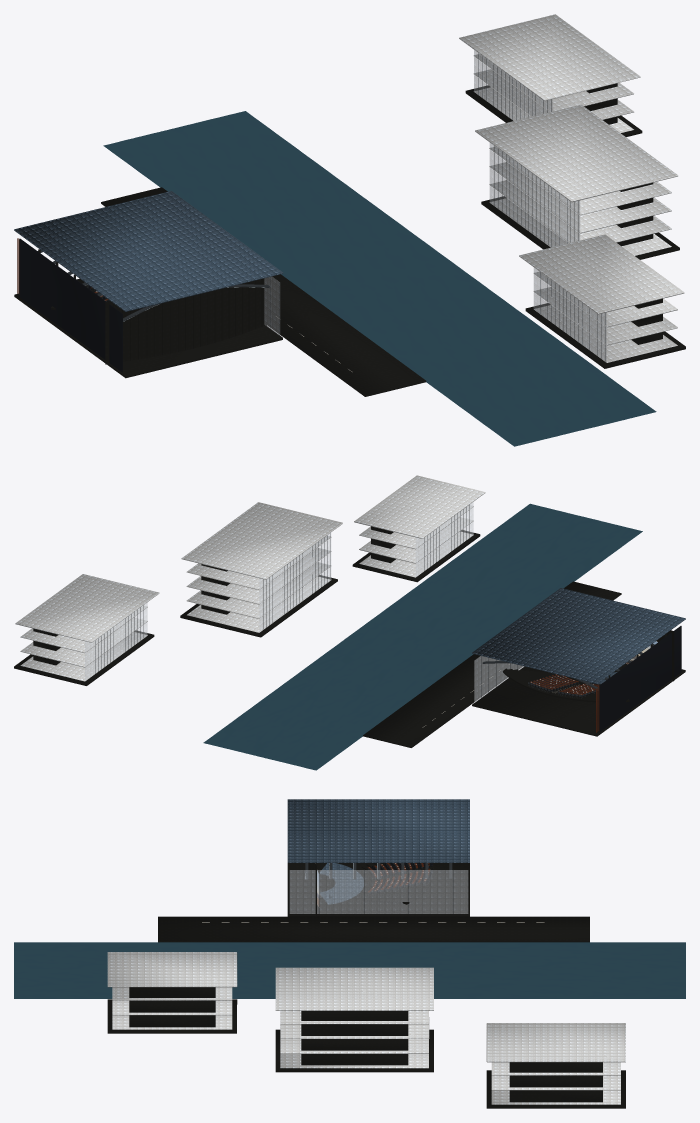
Rendered from lecture-hall.glb.
3 renders of one model, top to bottom at view 1: azimuth 30°, elevation 25°; view 2: azimuth 150°, elevation 25°; view 3: azimuth 270°, elevation 25°, orthographic. The views are drawn at different scales.
Parts seen in each view (by area): view 1: Static Architecture, Campus reflecting pool; view 2: Static Architecture, Campus reflecting pool; view 3: Static Architecture, Campus reflecting pool.
Part boxes in pixels (box(x1,y1,x2,y2)): Static Architecture: box(14, 14, 685, 396); Campus reflecting pool: box(103, 111, 656, 446); Static Architecture: box(14, 475, 685, 747); Campus reflecting pool: box(203, 503, 642, 770); Static Architecture: box(107, 799, 625, 1108); Campus reflecting pool: box(14, 942, 685, 998).
Bounding box in the file's own units: 126 × 14.16 × 140.
Materials: 14 (6 with a texture image).
